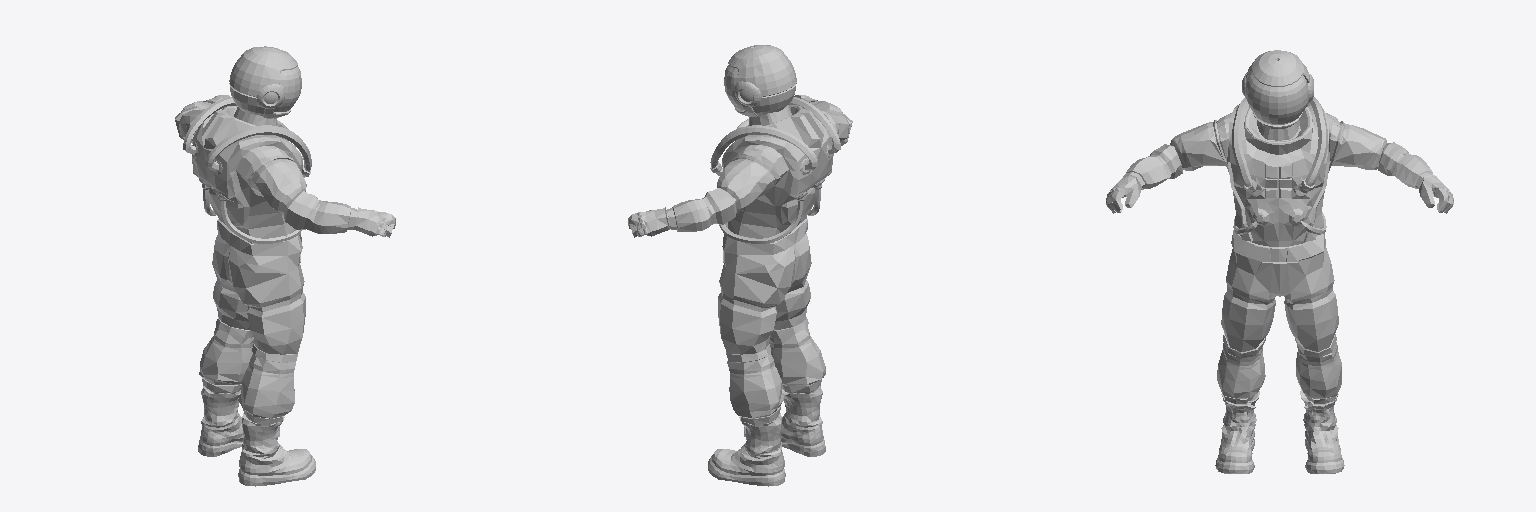
Rendered from player2_body.obj.
The picture shows the model from 3 angles: view 1: azimuth 30°, elevation 25°; view 2: azimuth 150°, elevation 25°; view 3: azimuth 270°, elevation 25°; orthographic projection.
Bounding box in the file's own units: 1.16 × 3.78 × 2.9.